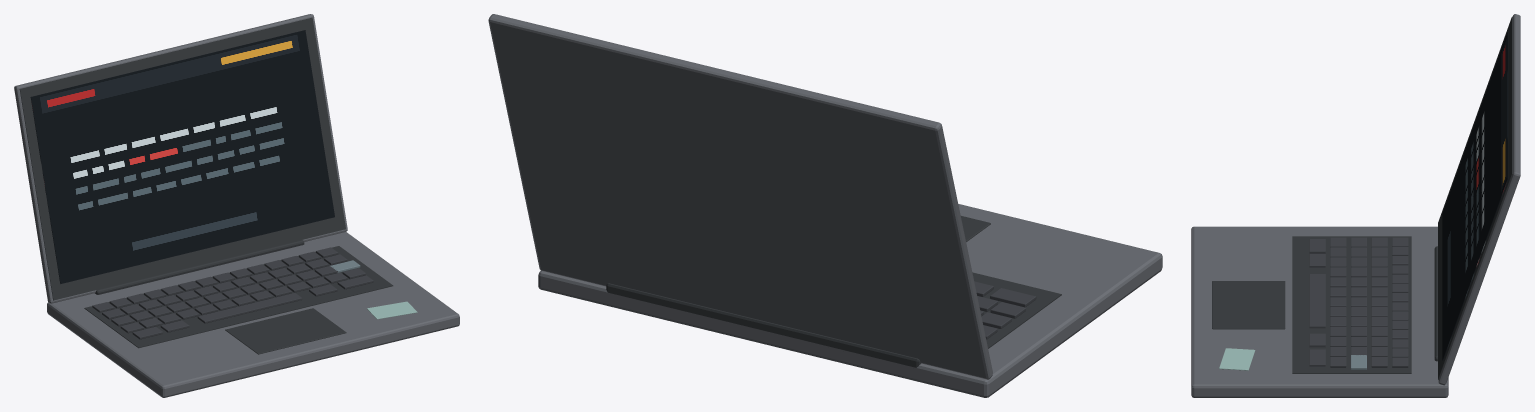
Rendered from PROP_RakaLaptop.fbx.
3 views of the same model, side by side, from view 1: azimuth 30°, elevation 25°; view 2: azimuth 150°, elevation 25°; view 3: azimuth 270°, elevation 25° (orthographic). The views are drawn at different scales.
Parts seen in each view (by area): view 1: SM_PROP_LaptopScreen, SM_PROP_LaptopBase, SM_PROP_LaptopBezel, SM_PROP_KeyboardWell, SM_PROP_LaptopLid, SM_PROP_LaptopTrackpad, SM_PROP_LaptopHinge, SM_PROP_LaptopKey.055, SM_PROP_LaptopSticker; view 2: SM_PROP_LaptopLid, SM_PROP_LaptopBase, SM_PROP_LaptopHinge, SM_PROP_KeyboardWell; view 3: SM_PROP_LaptopBase, SM_PROP_LaptopScreen, SM_PROP_KeyboardWell, SM_PROP_LaptopTrackpad, SM_PROP_LaptopLid, SM_PROP_LaptopBezel, SM_PROP_LaptopKey.055, SM_PROP_LaptopSticker, SM_PROP_LaptopHinge, SM_PROP_LaptopKey.057.
Boxes of the visible parts, left/top/right/bottom form: SM_PROP_LaptopScreen: left=30, top=30, right=334, bottom=283; SM_PROP_LaptopBase: left=47, top=232, right=459, bottom=397; SM_PROP_LaptopBezel: left=19, top=17, right=345, bottom=300; SM_PROP_KeyboardWell: left=84, top=246, right=393, bottom=348; SM_PROP_LaptopLid: left=14, top=14, right=347, bottom=303; SM_PROP_LaptopTrackpad: left=225, top=308, right=346, bottom=354; SM_PROP_LaptopHinge: left=95, top=240, right=304, bottom=294; SM_PROP_LaptopKey.055: left=197, top=293, right=302, bottom=323; SM_PROP_LaptopSticker: left=367, top=301, right=417, bottom=319; SM_PROP_LaptopLid: left=488, top=14, right=992, bottom=379; SM_PROP_LaptopBase: left=538, top=204, right=1162, bottom=397; SM_PROP_LaptopHinge: left=606, top=283, right=921, bottom=367; SM_PROP_KeyboardWell: left=972, top=272, right=1061, bottom=348; SM_PROP_LaptopBase: left=1191, top=226, right=1448, bottom=397; SM_PROP_LaptopScreen: left=1442, top=31, right=1508, bottom=360; SM_PROP_KeyboardWell: left=1292, top=236, right=1411, bottom=373; SM_PROP_LaptopTrackpad: left=1212, top=281, right=1285, bottom=329; SM_PROP_LaptopLid: left=1438, top=14, right=1520, bottom=385; SM_PROP_LaptopBezel: left=1438, top=17, right=1512, bottom=379; SM_PROP_LaptopKey.055: left=1309, top=274, right=1325, bottom=328; SM_PROP_LaptopSticker: left=1219, top=348, right=1255, bottom=370; SM_PROP_LaptopHinge: left=1434, top=246, right=1437, bottom=361; SM_PROP_LaptopKey.057: left=1309, top=349, right=1325, bottom=366.
Bounding box in the file's own units: 0.33 × 0.219 × 0.2868.
